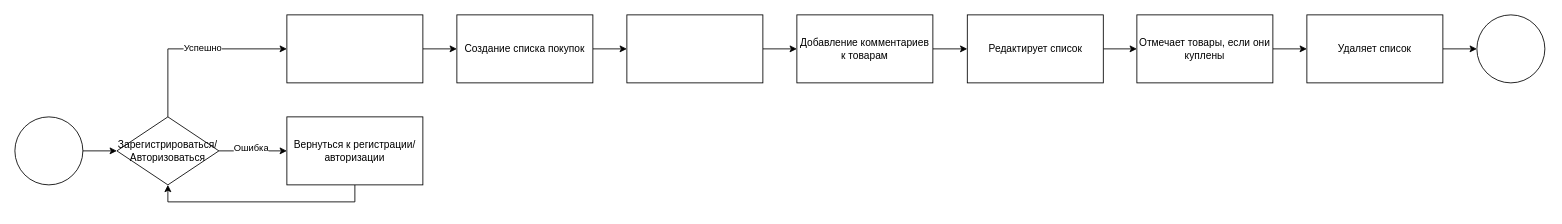
The diagram is 1562 pixels wide and 224 high, and some of its shapes have lost their labels. Here are the shapes that lost their labels. From the top down, the centre of each, then its label:
pixel 354 48: Вход в аккаунт
pixel 694 48: Добавление товаров в список
pixel 1510 48: Синхронизация с сервером
pixel 48 150: Открыть приложение
